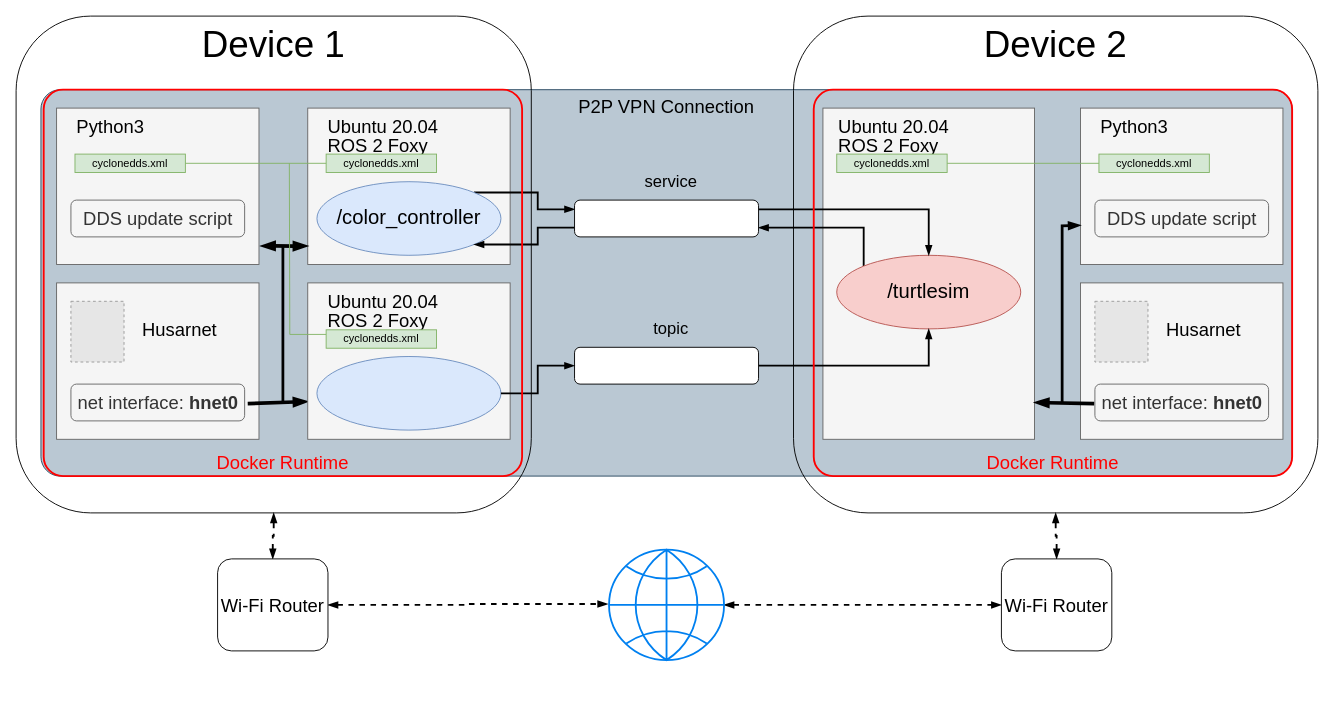
The diagram is 1334 pixels wide and 705 high, and some of its shapes have lost their labels. Grey dashed boxes stand in for pictures. The centre of each missing label's shape, as x and y in pixels:
"/move_controller" belongs at (x=408, y=393).
"/turtle1/cmd_vel" belongs at (x=666, y=365).
"/turtle1/set_pen" belongs at (x=666, y=218).
"PUBLIC INTERNET" belongs at (x=666, y=604).
